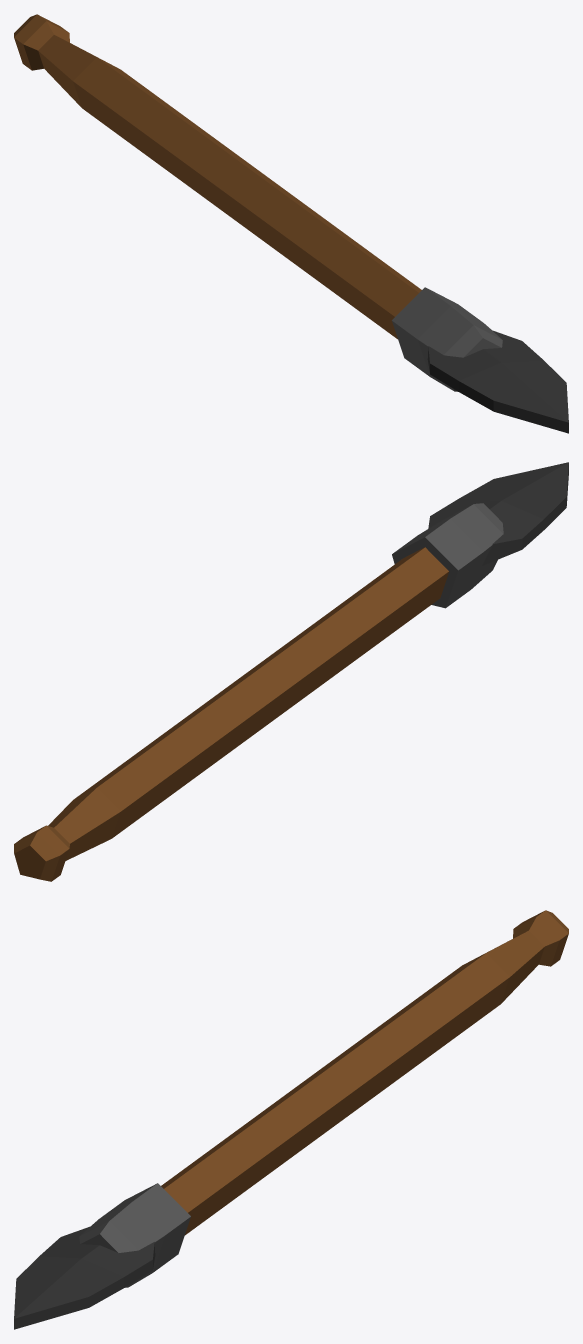
Rendered from F_Spear_A.fbx.
3 views of the same model, one above another, from view 1: azimuth 30°, elevation 25°; view 2: azimuth 150°, elevation 25°; view 3: azimuth 330°, elevation 25° (orthographic).
Visible parts, largest first — view 1: F_Spear_A; view 2: F_Spear_A; view 3: F_Spear_A.
Part boxes in pixels (<box>): F_Spear_A: <box>14,14,568,433</box>; F_Spear_A: <box>14,462,568,881</box>; F_Spear_A: <box>14,910,568,1329</box>.
Bounding box in the file's own units: 20.93 × 14.36 × 212.
